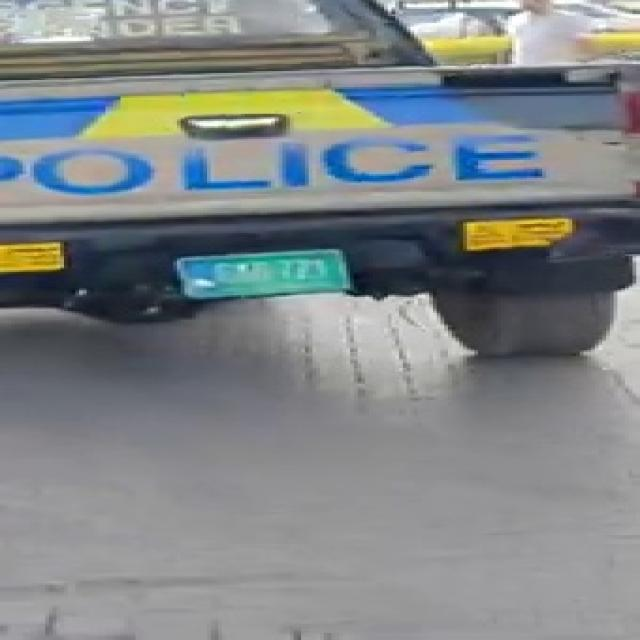police: (0, 2, 640, 354)
